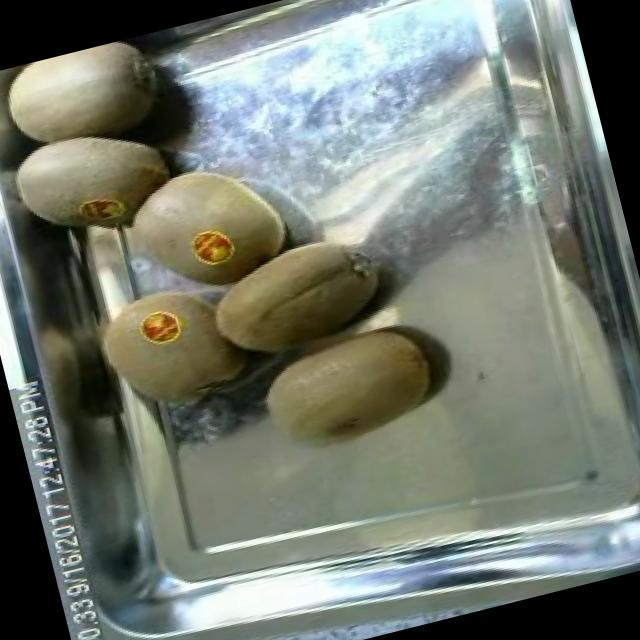Fruit: (188, 215, 404, 382), (238, 302, 452, 468), (103, 136, 303, 304), (0, 114, 188, 257), (0, 28, 186, 155)
